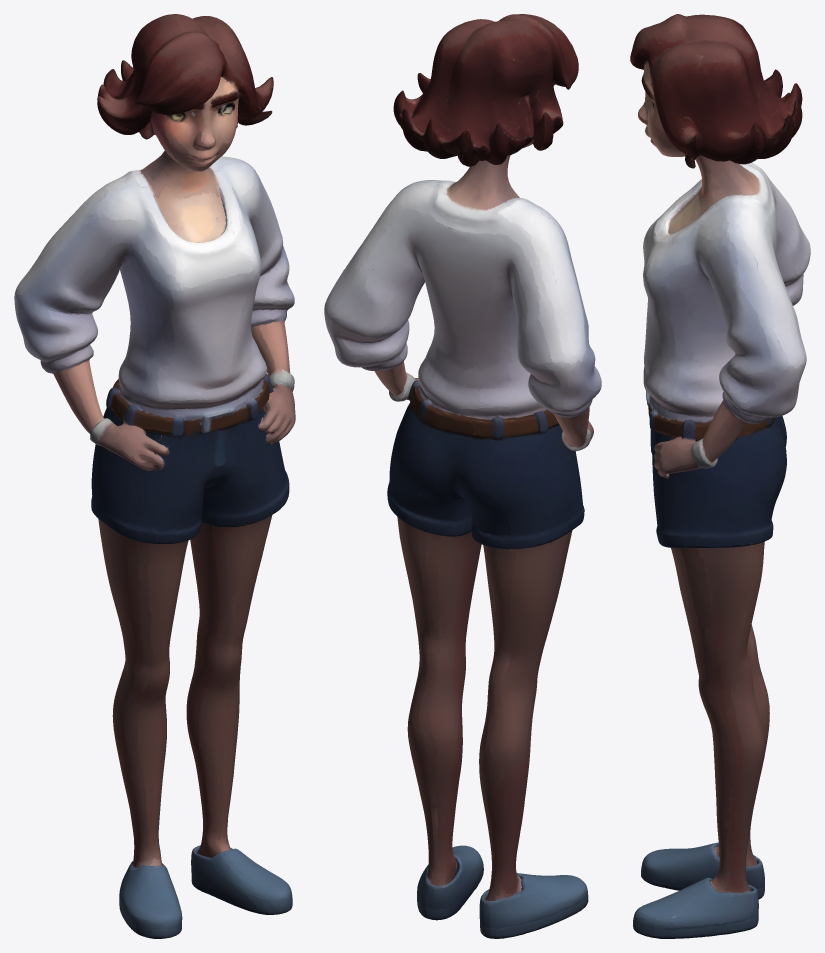
The model's file is ana.glb.
3 views of the same model, side by side, from view 1: azimuth 30°, elevation 25°; view 2: azimuth 150°, elevation 25°; view 3: azimuth 270°, elevation 25° (orthographic).
Visible parts, largest first — view 1: Mesh_0; view 2: Mesh_0; view 3: Mesh_0.
Boxes of the visible parts, <box> form: Mesh_0: <box>14,14,295,938</box>; Mesh_0: <box>324,14,601,938</box>; Mesh_0: <box>630,14,810,938</box>.
Bounding box in the file's own units: 0.5234 × 1.72 × 0.3184.
Materials: 1 (1 with a texture image).
